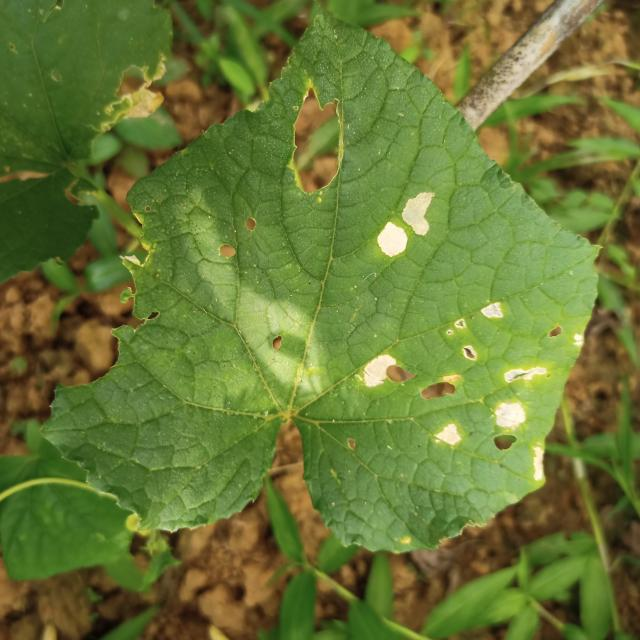disease_cucumber: (365, 303, 546, 486), (380, 190, 430, 256)
